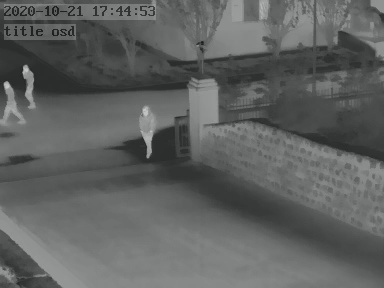person: (140, 102, 158, 158), (2, 77, 23, 123), (23, 63, 40, 106)
